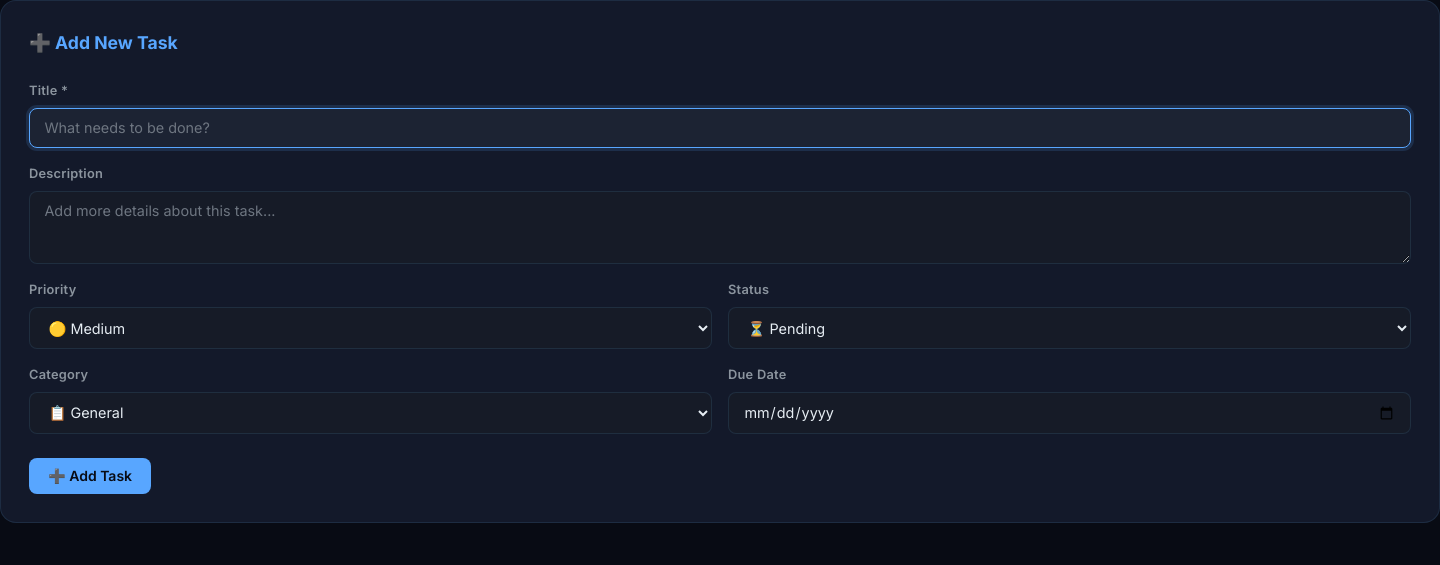
Test: TaskForm › clears title error on input change
Click the button "➕ Add Task" at (90, 476), box [29,458,151,494]
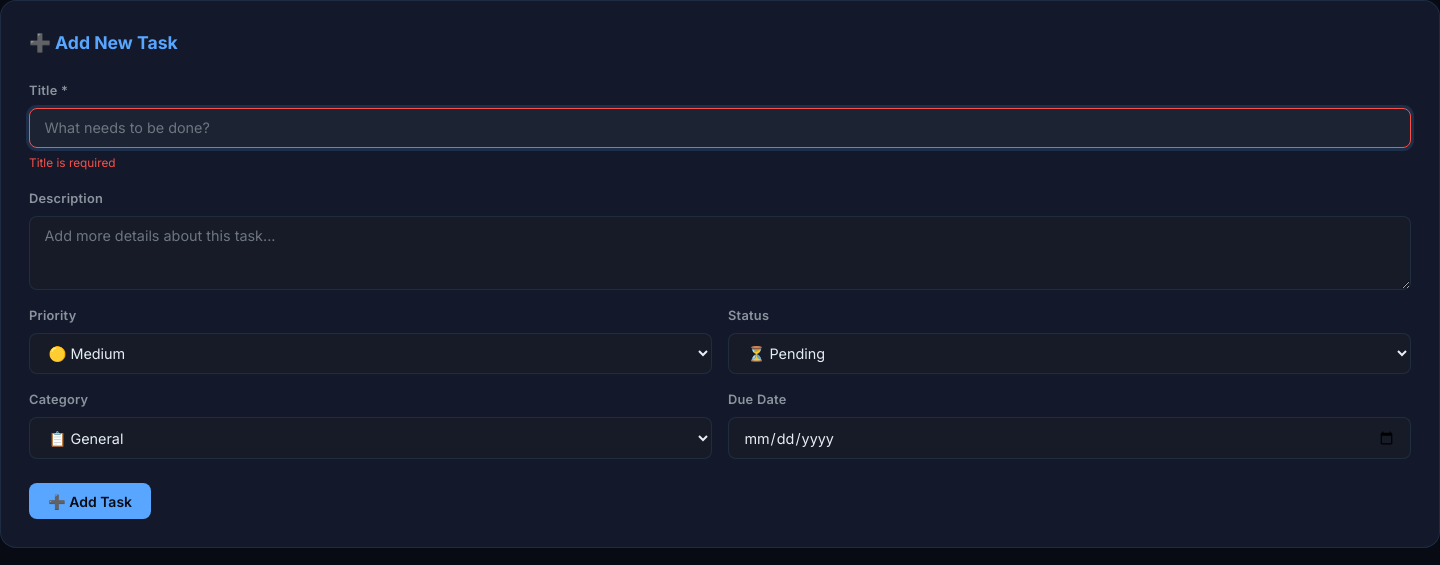
Expected: the text "Title is required" is shown, [29,156,116,170]
Type "Fixed" into the field with id "tf-title" at (720, 128), box [29,108,1411,148]
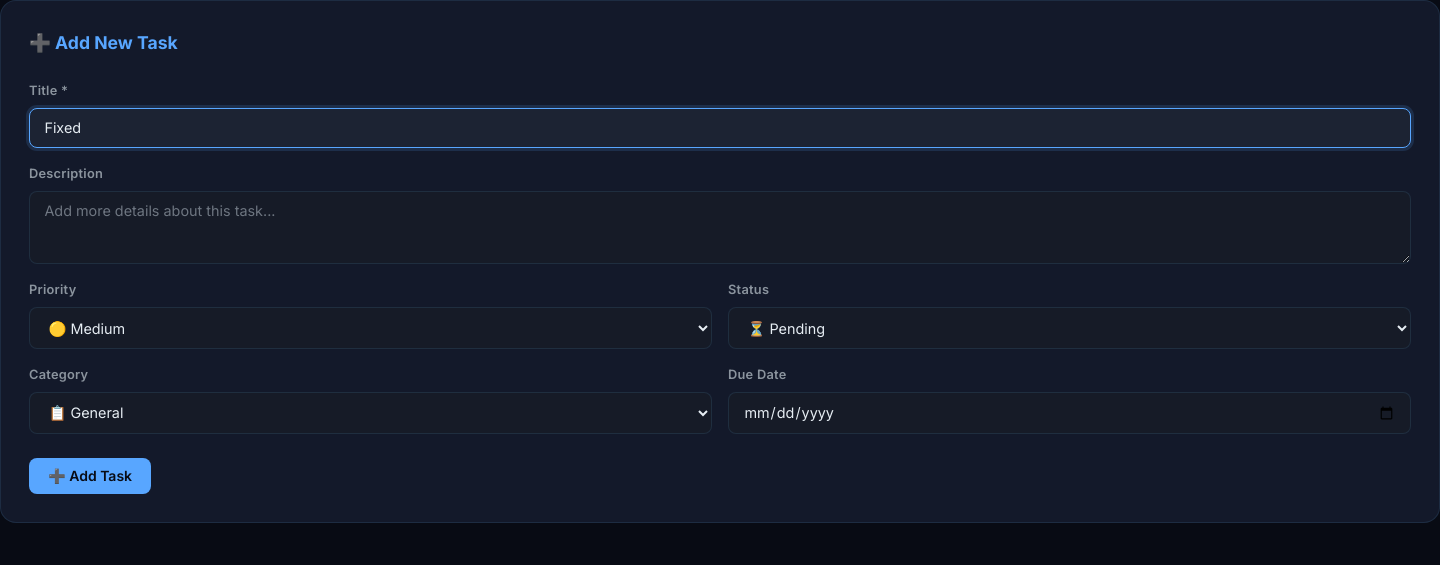
Expected: the text "Title is required" is gone
